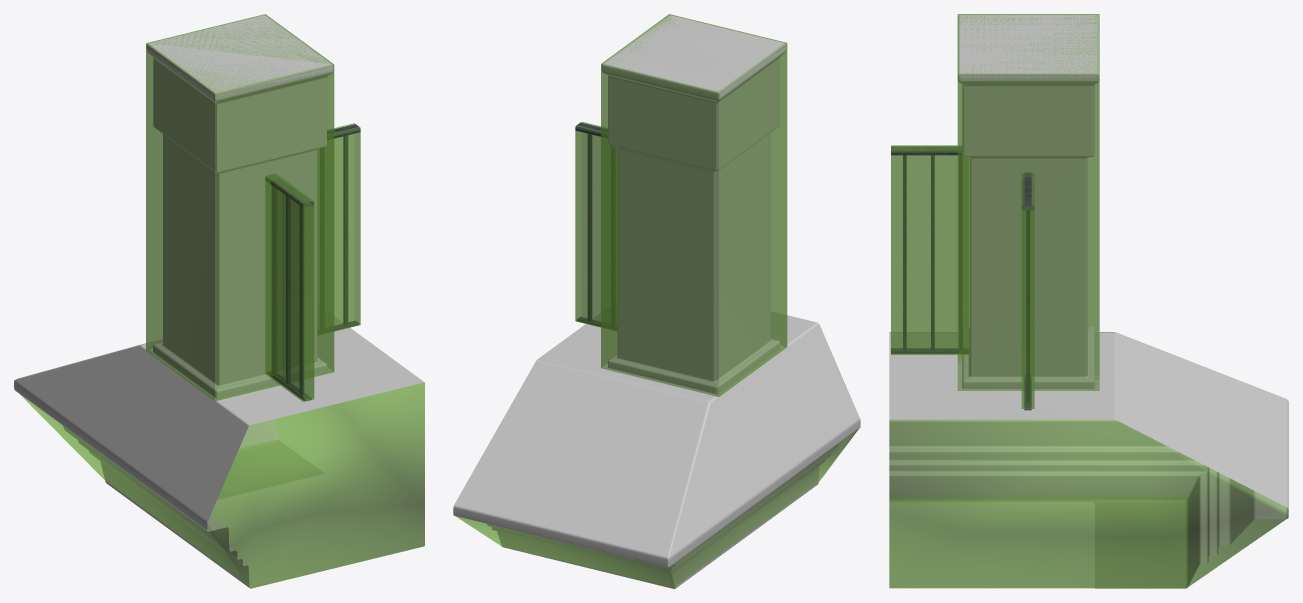
File: F7_md_Roof_end_01_m.fbx
3 views of the same model, side by side, from view 1: azimuth 30°, elevation 25°; view 2: azimuth 150°, elevation 25°; view 3: azimuth 270°, elevation 25° (orthographic). The views are drawn at different scales.
Visible parts, largest first — view 1: F7_md_Roof_end_01_m_LOD0, F7_md_Roof_end_01_m_col_01, F7_md_Roof_end_01_m_col_04, F7_md_Roof_end_01_m_col_03, F7_md_Roof_end_01_m_col_02; view 2: F7_md_Roof_end_01_m_LOD0, F7_md_Roof_end_01_m_col_01, F7_md_Roof_end_01_m_col_04, F7_md_Roof_end_01_m_col_02; view 3: F7_md_Roof_end_01_m_LOD0, F7_md_Roof_end_01_m_col_04, F7_md_Roof_end_01_m_col_01, F7_md_Roof_end_01_m_col_03, F7_md_Roof_end_01_m_col_02.
Boxes of the visible parts, x1=… form: F7_md_Roof_end_01_m_LOD0: x1=14, y1=15, x2=424, y2=588; F7_md_Roof_end_01_m_col_01: x1=146, y1=14, x2=334, y2=401; F7_md_Roof_end_01_m_col_04: x1=20, y1=382, x2=424, y2=588; F7_md_Roof_end_01_m_col_03: x1=265, y1=173, x2=314, y2=401; F7_md_Roof_end_01_m_col_02: x1=318, y1=123, x2=360, y2=334; F7_md_Roof_end_01_m_LOD0: x1=453, y1=15, x2=860, y2=588; F7_md_Roof_end_01_m_col_01: x1=601, y1=14, x2=787, y2=396; F7_md_Roof_end_01_m_col_04: x1=455, y1=429, x2=858, y2=587; F7_md_Roof_end_01_m_col_02: x1=575, y1=121, x2=616, y2=330; F7_md_Roof_end_01_m_LOD0: x1=889, y1=14, x2=1288, y2=588; F7_md_Roof_end_01_m_col_04: x1=889, y1=419, x2=1287, y2=588; F7_md_Roof_end_01_m_col_01: x1=957, y1=14, x2=1099, y2=390; F7_md_Roof_end_01_m_col_03: x1=891, y1=145, x2=968, y2=354; F7_md_Roof_end_01_m_col_02: x1=1021, y1=173, x2=1034, y2=408.
Size of what is drawn, in the model's own units: 126 by 261 by 194.
